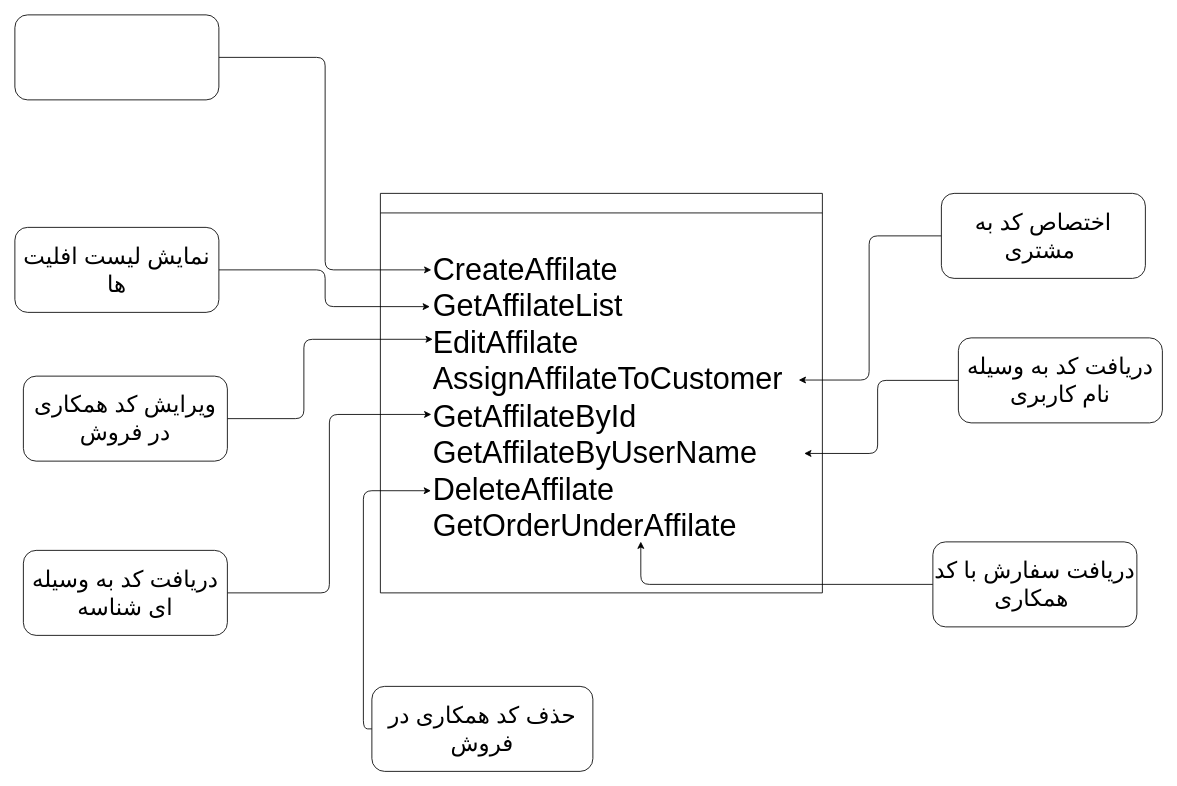
The diagram is 1177 pixels wide and 786 high, and some of its shapes have lost their labels. Here are the shapes that lost their labels. From the top down, the box of each, then its label:
(14, 14, 219, 100): متد مربوط به ساخت افلیت
(380, 193, 822, 593): AffilateService
